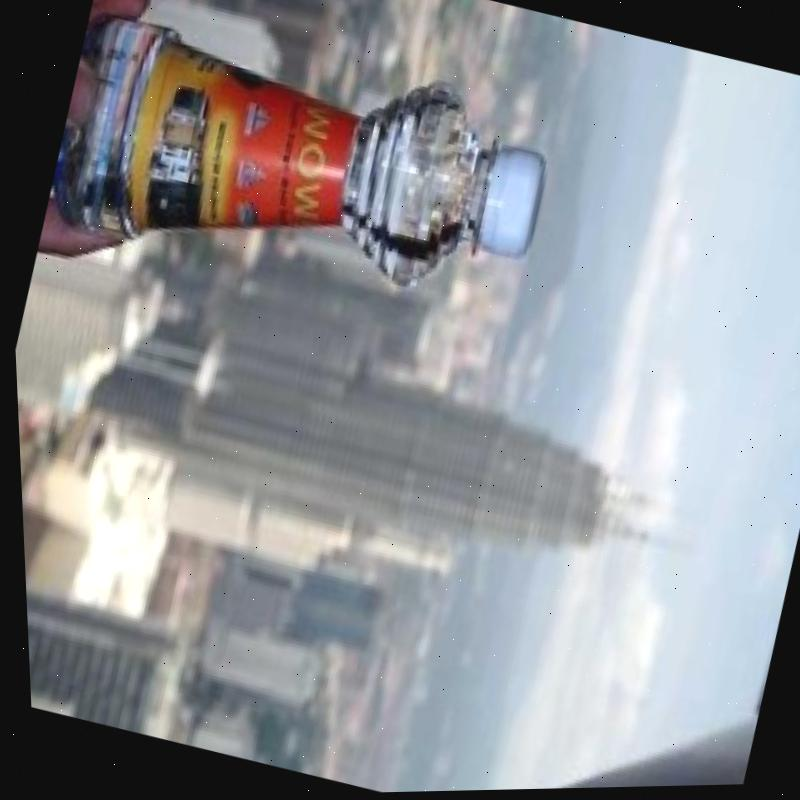botella: (33, 0, 564, 344)
